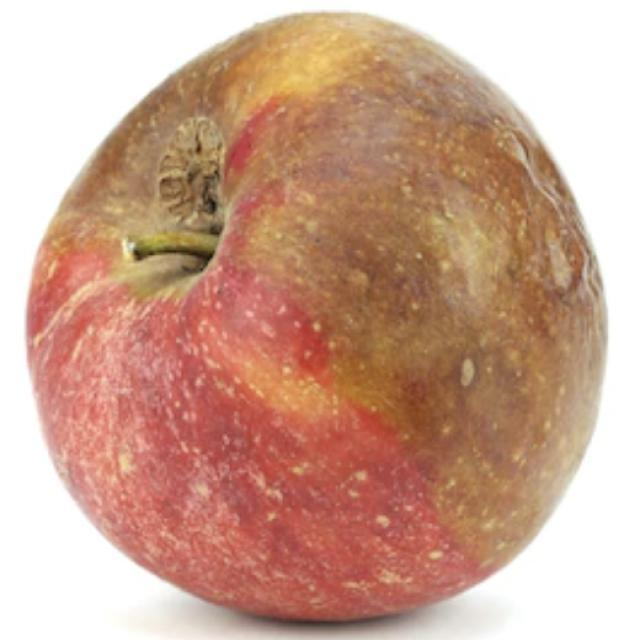Rotten: (60, 45, 628, 623)
